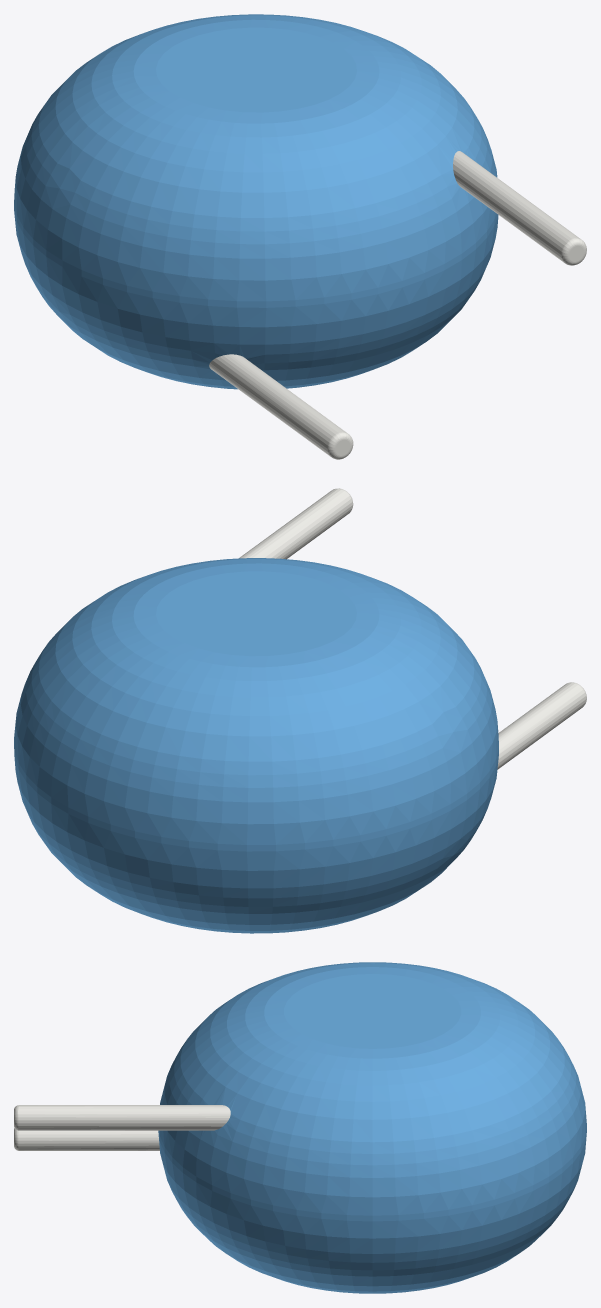
File: RV_Disc_D9mm_W5.4mm_P5mm.glb
The picture shows the model from 3 angles, top to bottom: view 1: azimuth 30°, elevation 25°; view 2: azimuth 150°, elevation 25°; view 3: azimuth 270°, elevation 25°; orthographic projection. The views are drawn at different scales.
Visible parts, largest first — view 1: Shape_IndexedFaceSet.001, Shape_IndexedFaceSet.002, Shape_IndexedFaceSet.003, Shape_IndexedFaceSet.006, Shape_IndexedFaceSet.004, Shape_IndexedFaceSet; view 2: Shape_IndexedFaceSet.001, Shape_IndexedFaceSet.002, Shape_IndexedFaceSet.003, Shape_IndexedFaceSet, Shape_IndexedFaceSet.004, Shape_IndexedFaceSet.006; view 3: Shape_IndexedFaceSet.001, Shape_IndexedFaceSet.002, Shape_IndexedFaceSet.003, Shape_IndexedFaceSet.004, Shape_IndexedFaceSet.006, Shape_IndexedFaceSet.
Boxes of the visible parts, bbox=[...] form: Shape_IndexedFaceSet.001: bbox=[14, 14, 497, 301]; Shape_IndexedFaceSet.002: bbox=[14, 210, 498, 389]; Shape_IndexedFaceSet.003: bbox=[156, 27, 356, 112]; Shape_IndexedFaceSet.006: bbox=[209, 354, 346, 455]; Shape_IndexedFaceSet.004: bbox=[453, 151, 580, 262]; Shape_IndexedFaceSet: bbox=[14, 204, 497, 307]; Shape_IndexedFaceSet.001: bbox=[14, 558, 498, 844]; Shape_IndexedFaceSet.002: bbox=[14, 754, 498, 933]; Shape_IndexedFaceSet.003: bbox=[156, 571, 356, 656]; Shape_IndexedFaceSet: bbox=[14, 742, 498, 851]; Shape_IndexedFaceSet.004: bbox=[239, 488, 352, 559]; Shape_IndexedFaceSet.006: bbox=[497, 682, 586, 769]; Shape_IndexedFaceSet.001: bbox=[159, 962, 586, 1215]; Shape_IndexedFaceSet.002: bbox=[158, 1132, 586, 1293]; Shape_IndexedFaceSet.003: bbox=[284, 974, 461, 1048]; Shape_IndexedFaceSet.004: bbox=[19, 1105, 230, 1130]; Shape_IndexedFaceSet.006: bbox=[19, 1130, 159, 1150]; Shape_IndexedFaceSet: bbox=[158, 1126, 586, 1221].
Bounding box in the file's own units: 3.54 × 2.13 × 4.74.
